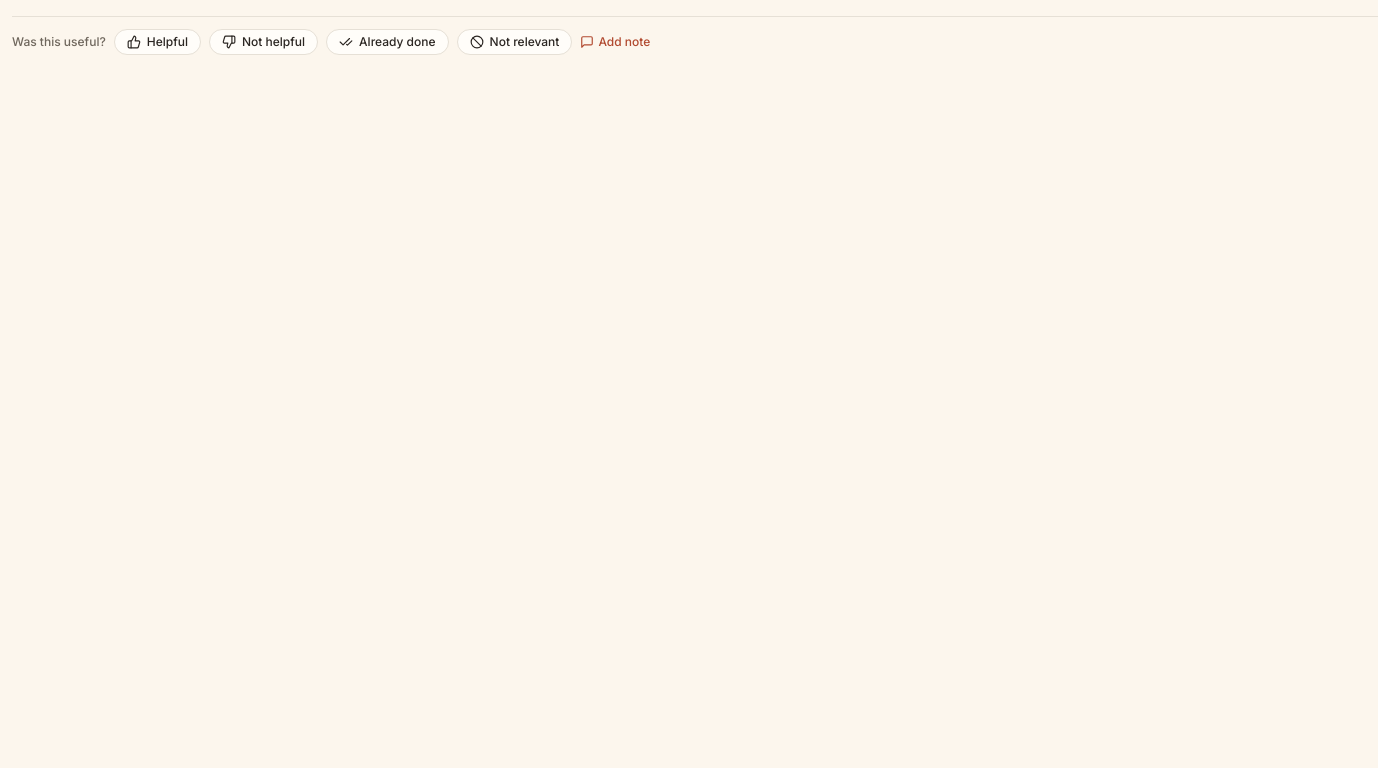
FeedbackBar › saves the chosen option to the API and marks it pressed
This screenshot has width=1378, height=768.
Click the button "Helpful" at (157, 42), box [114,29,201,55]
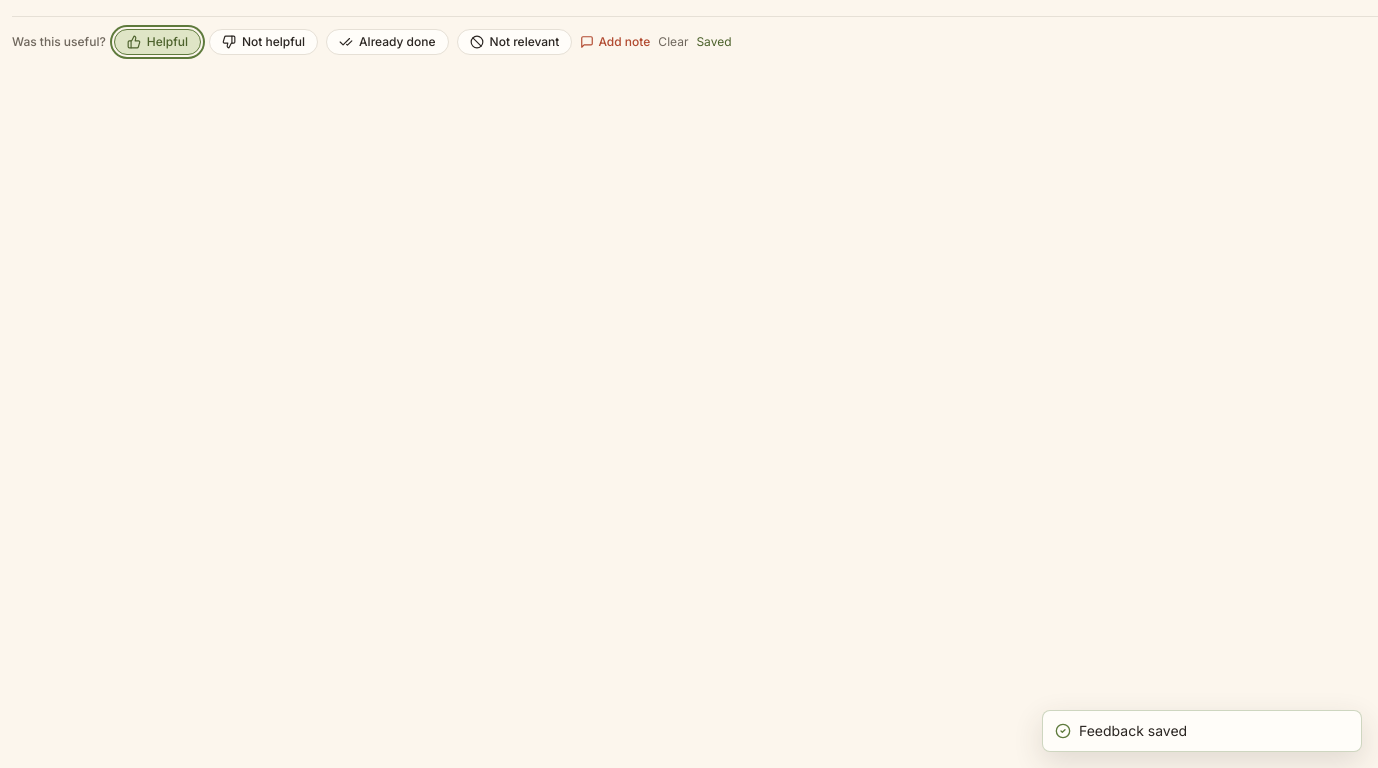
Expected: the text "Saved" is shown, [696,34,732,50]
